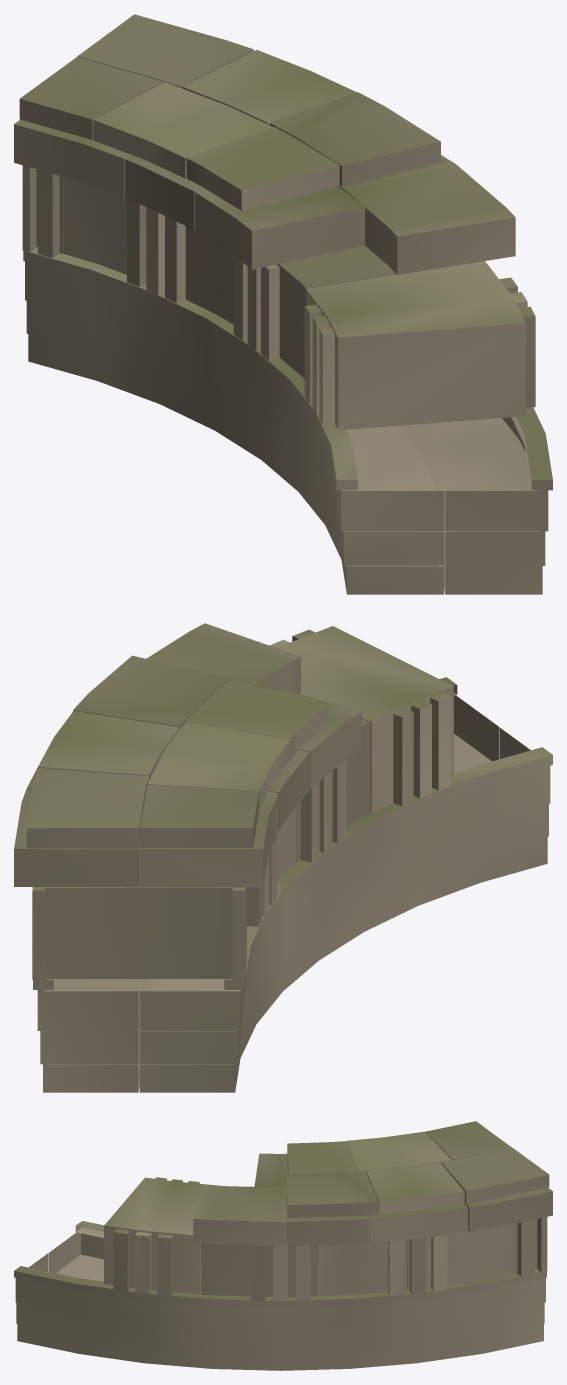
The model's file is tholos_lintel_r_mid.glb.
3 renders of one model, top to bottom at view 1: azimuth 30°, elevation 25°; view 2: azimuth 150°, elevation 25°; view 3: azimuth 270°, elevation 25°, orthographic. The views are drawn at different scales.
Parts seen in each view (by area): view 1: tholos_lintel_r_mid; view 2: tholos_lintel_r_mid; view 3: tholos_lintel_r_mid.
Boxes of the visible parts, <box> form: tholos_lintel_r_mid: <box>14,14,552,594</box>; tholos_lintel_r_mid: <box>14,623,552,1092</box>; tholos_lintel_r_mid: <box>14,1121,552,1370</box>.
Bounding box in the file's own units: 8.43 × 7.48 × 21.42.
